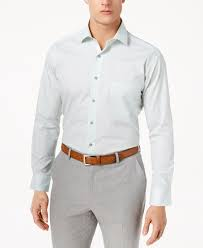F_belt: (56, 137, 149, 173)
